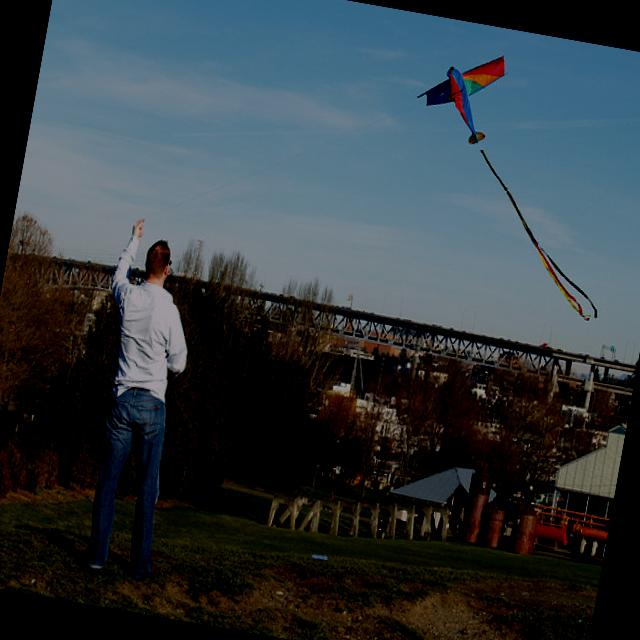Vehicle: (380, 484, 390, 497), (539, 342, 552, 349), (428, 322, 442, 328), (554, 348, 565, 352), (461, 331, 469, 334), (513, 340, 520, 343), (448, 326, 455, 329), (498, 336, 504, 339), (506, 338, 511, 340)
